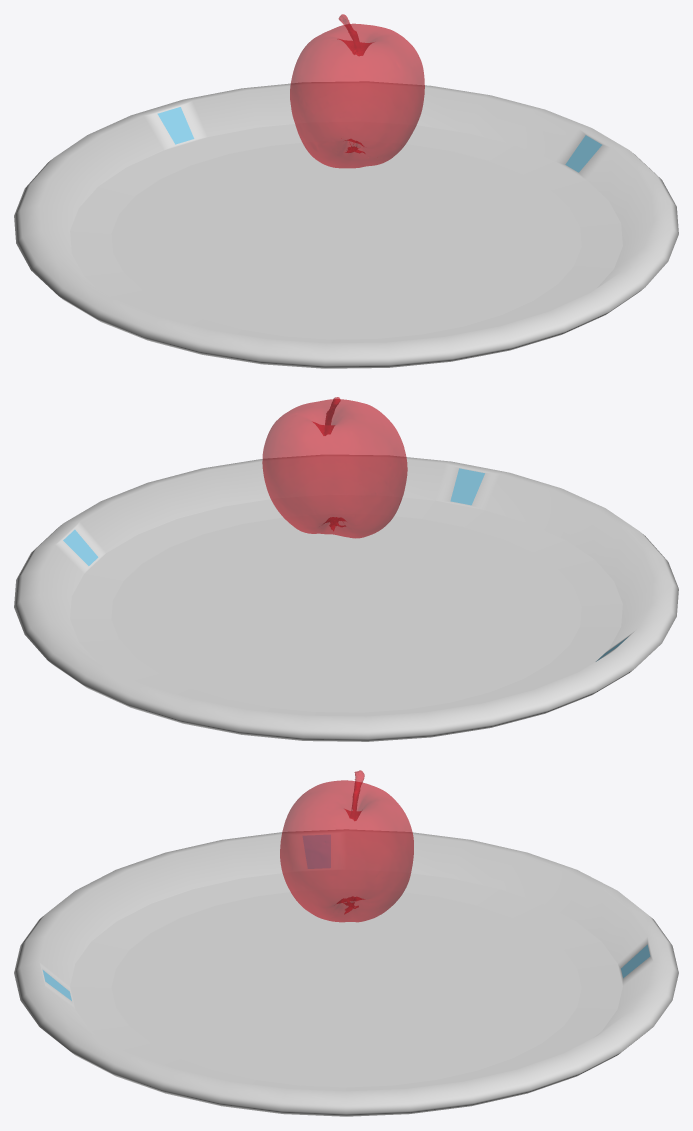
File: Smart_Plate_v4.glb
3 views of the same model, one above another, from view 1: azimuth 30°, elevation 25°; view 2: azimuth 150°, elevation 25°; view 3: azimuth 270°, elevation 25° (orthographic).
Visible parts, largest first — view 1: Plate, Apple; view 2: Plate, Apple; view 3: Plate, Apple.
Boxes of the visible parts, x1,y1,x2,y2 form: Plate: (14,81,678,368); Apple: (290,14,424,168); Plate: (14,455,678,741); Apple: (262,397,407,538); Plate: (14,829,678,1116); Apple: (280,770,413,922).
Bounding box in the file's own units: 2 × 0.7773 × 2.
